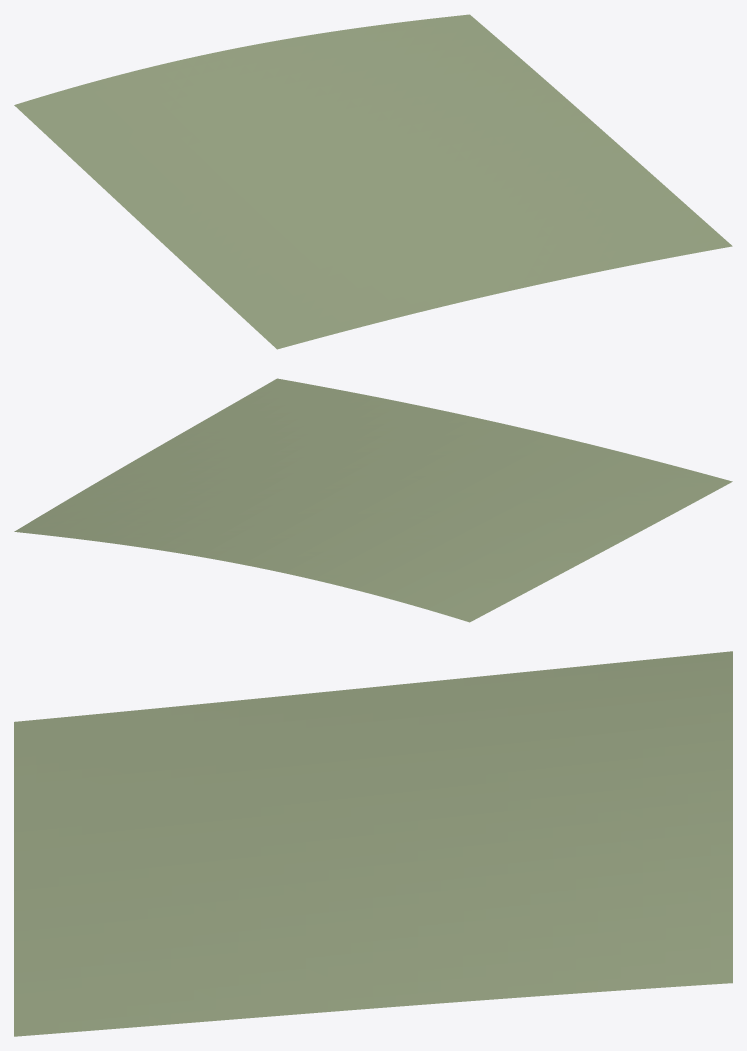
Rendered from expanse-17-19.glb.
The picture shows the model from 3 angles, top to bottom: view 1: azimuth 30°, elevation 25°; view 2: azimuth 150°, elevation 25°; view 3: azimuth 270°, elevation 25°; orthographic projection. The views are drawn at different scales.
Visible parts, largest first — view 1: expanse-17-19; view 2: expanse-17-19; view 3: expanse-17-19.
Boxes of the visible parts, box(x1,y1,x2,y2) form: expanse-17-19: box(14, 14, 732, 349); expanse-17-19: box(14, 378, 732, 622); expanse-17-19: box(14, 651, 732, 1036).
Size of the model in its own units: 256 by 34.63 by 256.
